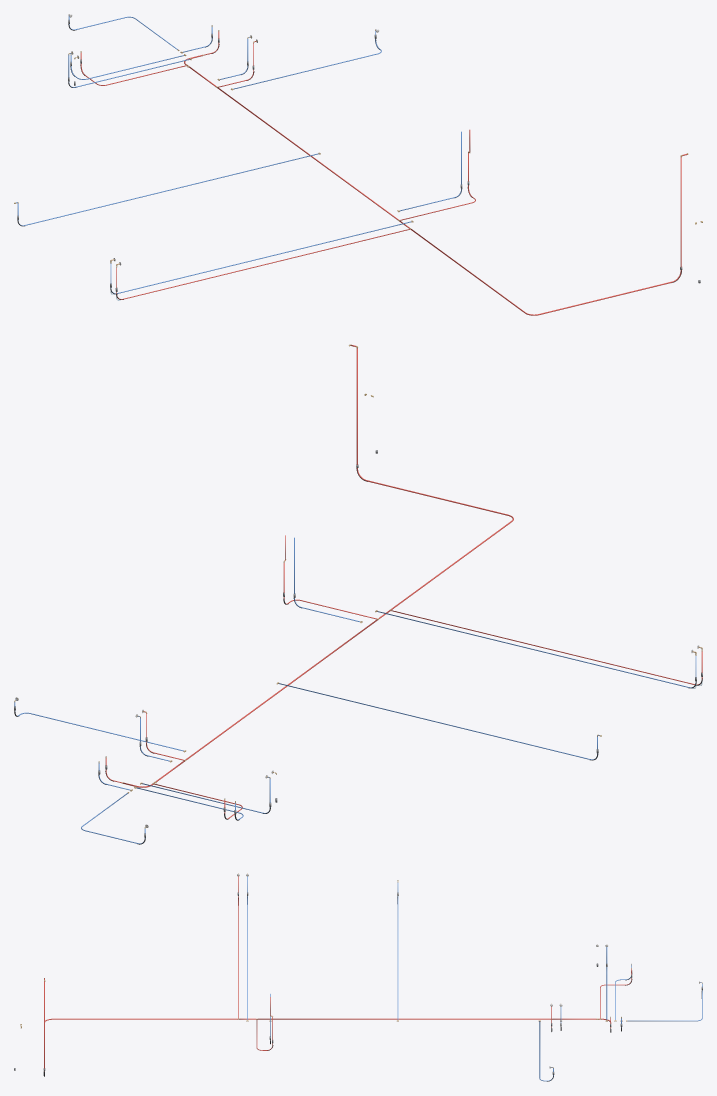
File: slab_pipes_supply__plumbing-pex_branch.glb
The picture shows the model from 3 angles, top to bottom: view 1: azimuth 30°, elevation 25°; view 2: azimuth 150°, elevation 25°; view 3: azimuth 270°, elevation 25°; orthographic projection. The views are drawn at different scales.
Visible parts, largest first — view 1: pipe_supply_tb_hot_trunk, pipe_supply_branch_tb_kitchen_cold, pipe_supply_branch_tb_hosebib_back, pipe_supply_branch_tb_kitchen_hot; view 2: pipe_supply_tb_hot_trunk; view 3: pipe_supply_tb_hot_trunk.
Boxes of the visible parts, left/top/right/bottom form: pipe_supply_tb_hot_trunk: left=184, top=55, right=687, bottom=315; pipe_supply_branch_tb_kitchen_cold: left=110, top=221, right=411, bottom=293; pipe_supply_branch_tb_hosebib_back: left=16, top=153, right=318, bottom=225; pipe_supply_branch_tb_kitchen_hot: left=116, top=229, right=410, bottom=299; pipe_supply_tb_hot_trunk: left=122, top=345, right=513, bottom=787; pipe_supply_tb_hot_trunk: left=44, top=978, right=611, bottom=1071.
Size of the model in its own units: 9.29 by 2.43 by 14.91.
